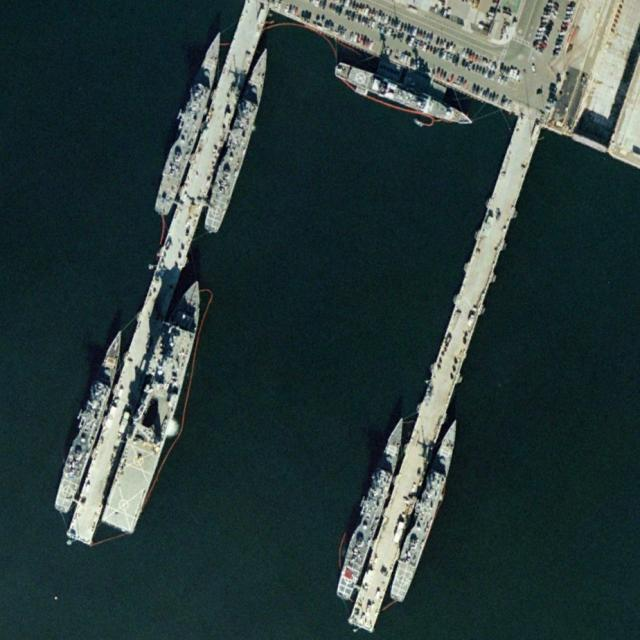Frigate: (150, 24, 233, 216), (330, 410, 412, 603), (384, 413, 465, 605), (51, 325, 128, 517), (201, 43, 277, 237)
Landing: (99, 270, 215, 536)
Other Ship: (332, 57, 474, 132)
